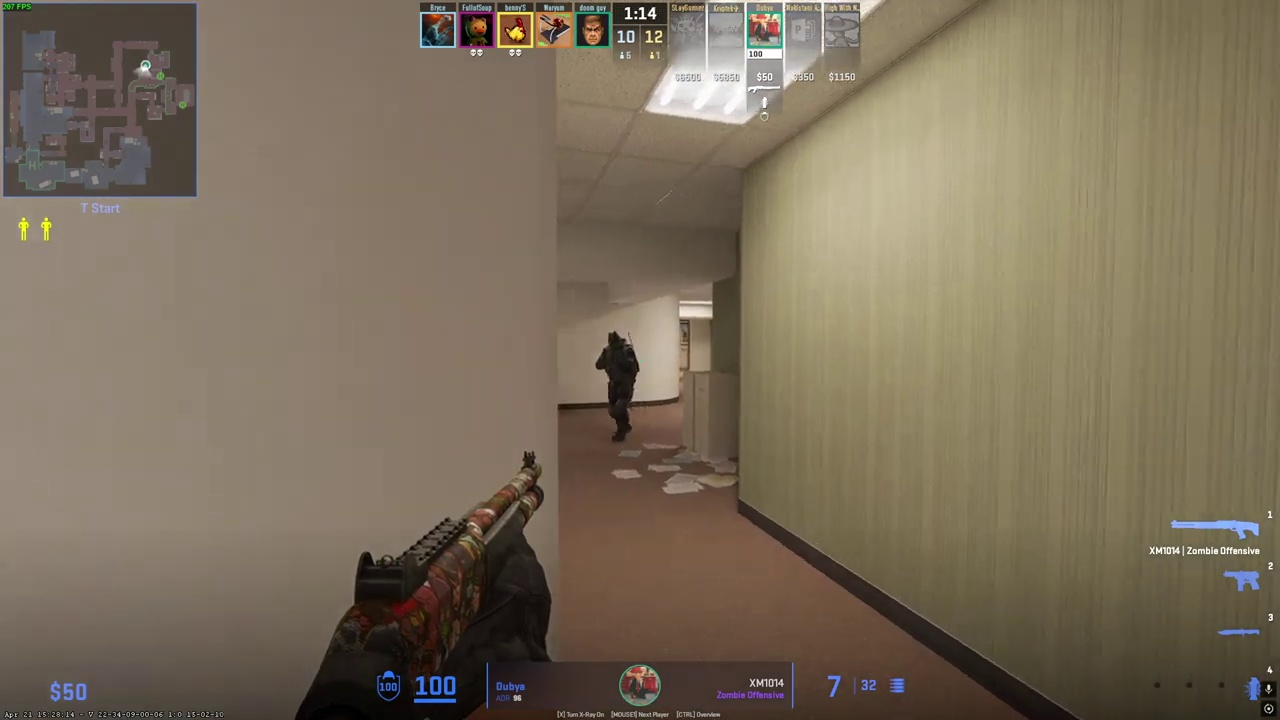CT: (600, 331, 638, 441)
